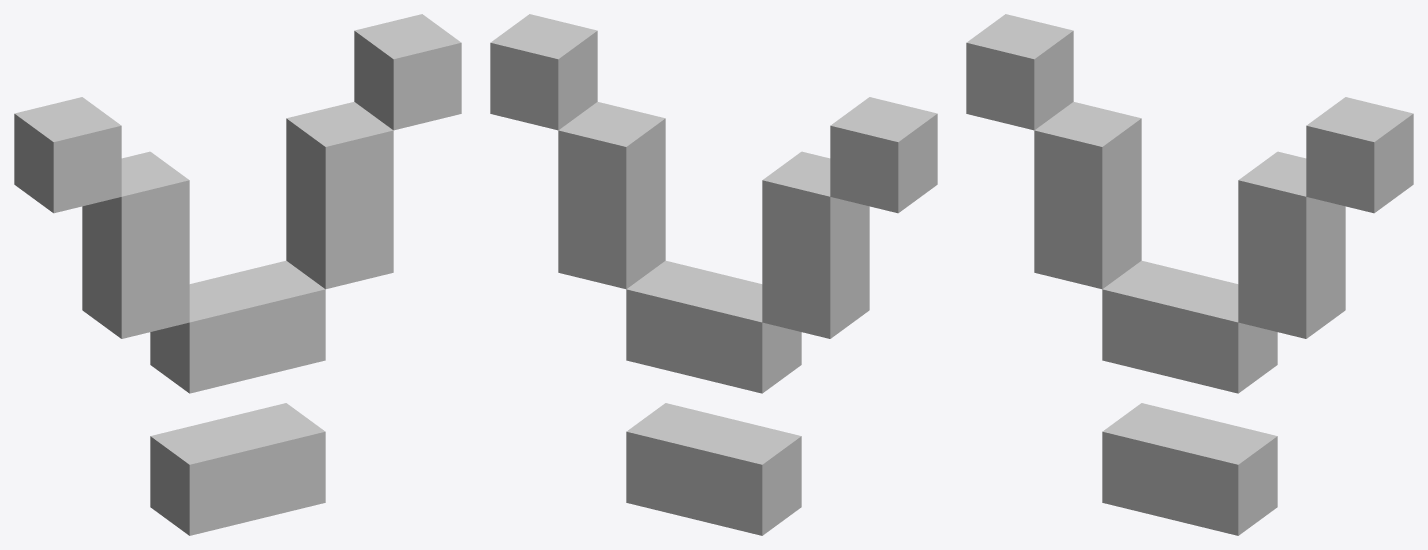
The picture shows the model from 3 angles, left to right: view 1: azimuth 30°, elevation 25°; view 2: azimuth 150°, elevation 25°; view 3: azimuth 330°, elevation 25°; orthographic projection.
Parts seen in each view (by area): view 1: 85.1; view 2: 85.1; view 3: 85.1.
Boxes of the visible parts, x1=… form: 85.1: x1=14, y1=14, x2=461, y2=535; 85.1: x1=490, y1=14, x2=937, y2=535; 85.1: x1=966, y1=14, x2=1413, y2=535.
Bounding box in the file's own units: 60 × 60 × 10.
1 material, 1 textured.
